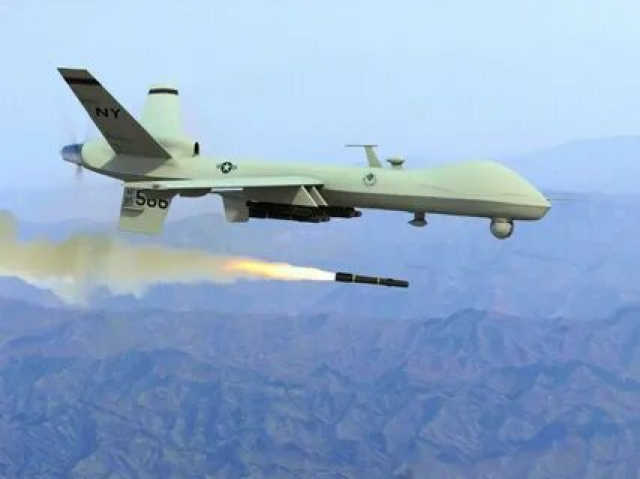military drone: (56, 67, 552, 237)
